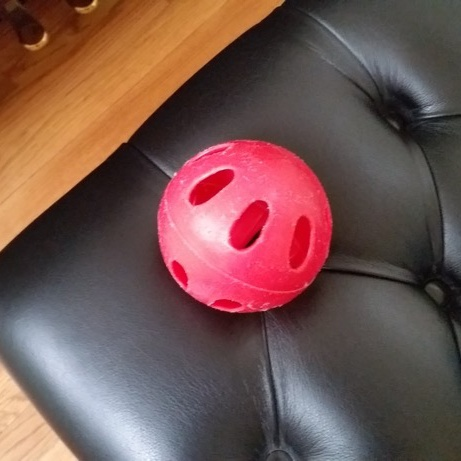redball: (153, 134, 337, 318)
